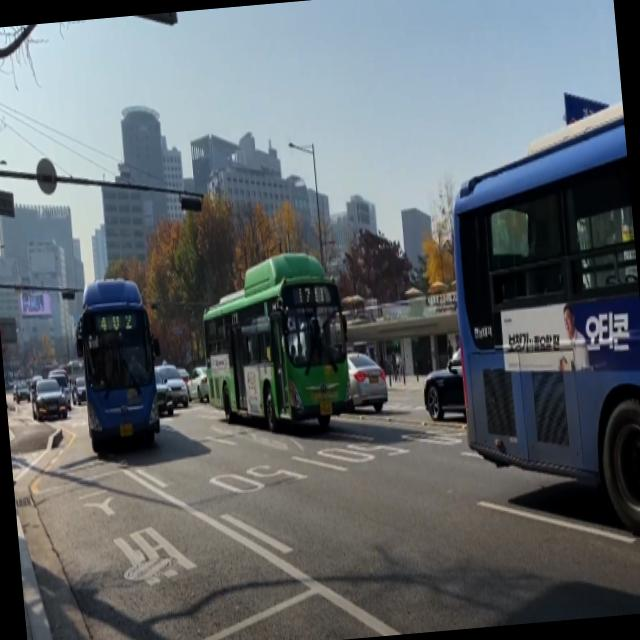bus-number: (99, 311, 134, 334), (296, 282, 324, 306)
